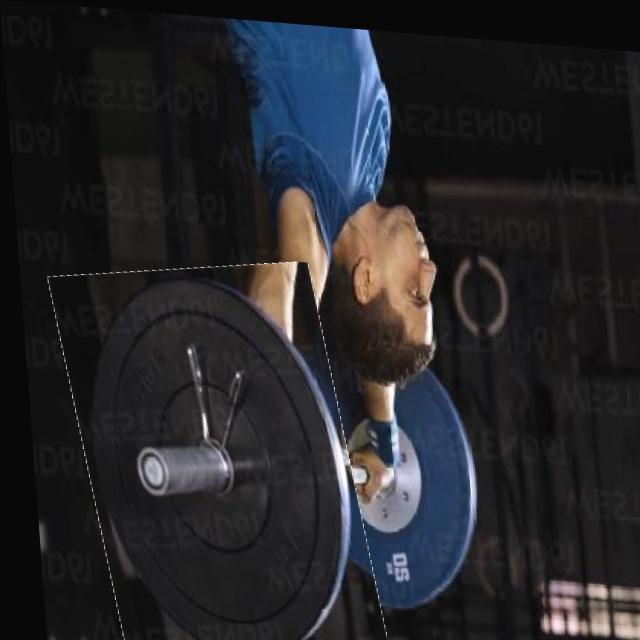barbell: (54, 250, 367, 640)
